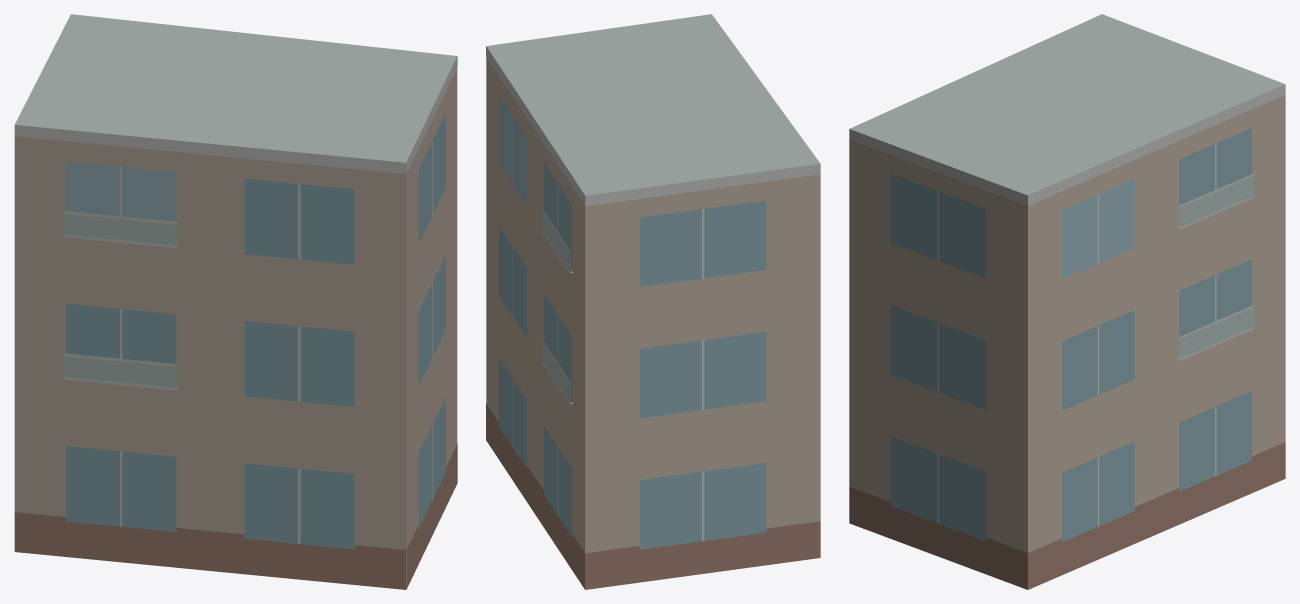
The model's file is survey-upis-32477110.glb.
3 views of the same model, side by side, from view 1: azimuth 30°, elevation 25°; view 2: azimuth 150°, elevation 25°; view 3: azimuth 270°, elevation 25° (orthographic). The views are drawn at different scales.
Visible parts, largest first — view 1: survey-upis-32477110.tmp; view 2: survey-upis-32477110.tmp; view 3: survey-upis-32477110.tmp.
Part boxes in pixels (x1=…): survey-upis-32477110.tmp: x1=14, y1=14, x2=457, y2=589; survey-upis-32477110.tmp: x1=486, y1=14, x2=820, y2=589; survey-upis-32477110.tmp: x1=849, y1=14, x2=1285, y2=589.
Size of the model in its own units: 9.04 by 9.15 by 9.18.
